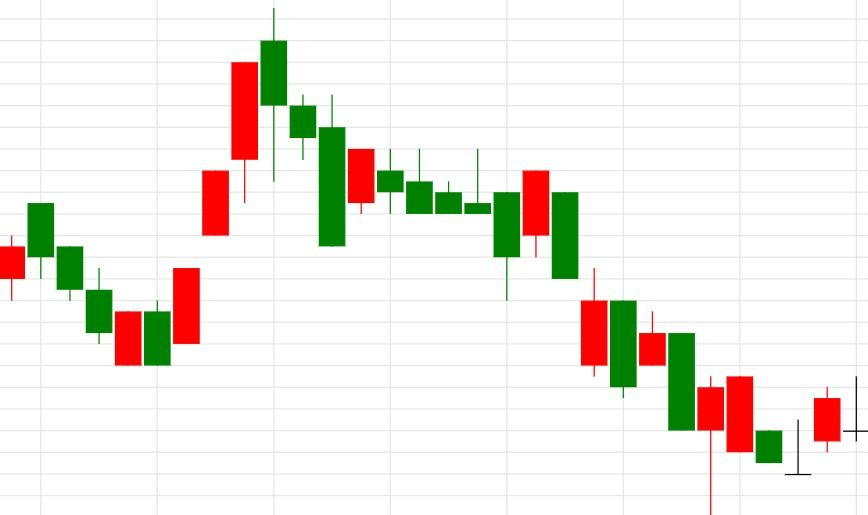three_black_crows_fall: (115, 7, 347, 366)
